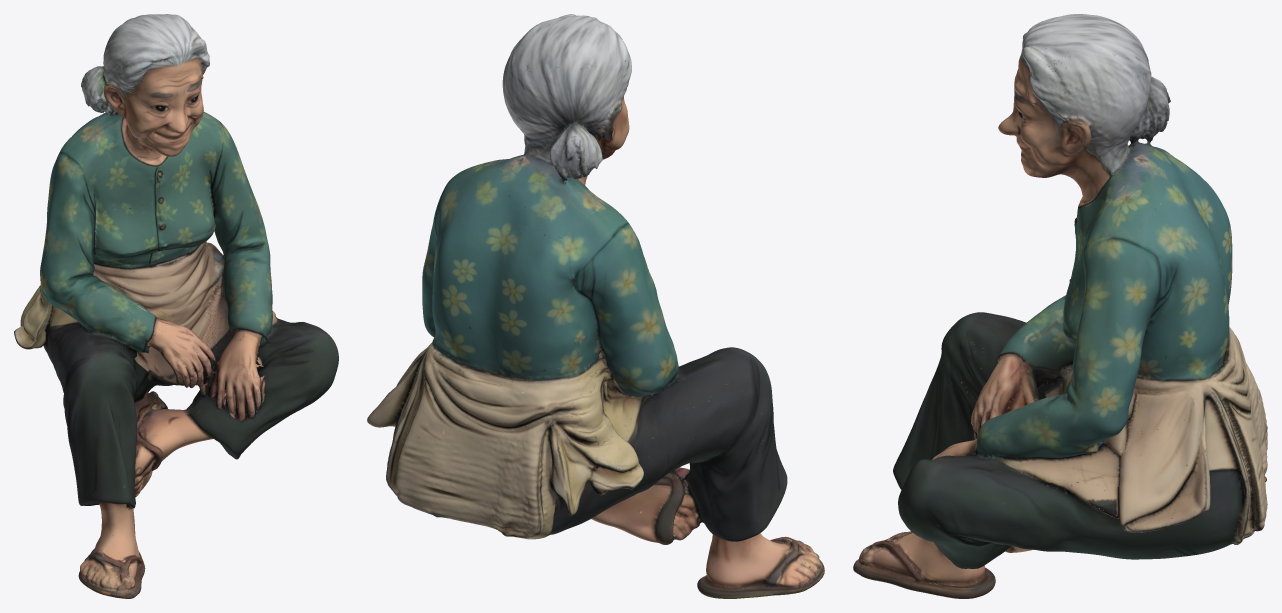
The model's file is Meshy_AI_Grandma_in_Green_0624100158_texture.fbx.
The picture shows the model from 3 angles, left to right: view 1: azimuth 30°, elevation 25°; view 2: azimuth 150°, elevation 25°; view 3: azimuth 270°, elevation 25°; orthographic projection. The views are drawn at different scales.
Visible parts, largest first — view 1: Mesh_0; view 2: Mesh_0; view 3: Mesh_0.
Boxes of the visible parts, x1=… form: Mesh_0: x1=14, y1=14, x2=338, y2=598; Mesh_0: x1=367, y1=14, x2=824, y2=598; Mesh_0: x1=853, y1=14, x2=1267, y2=598.
Size of the model in its own units: 115 by 200 by 122.
Materials: 1 (1 with a texture image).
